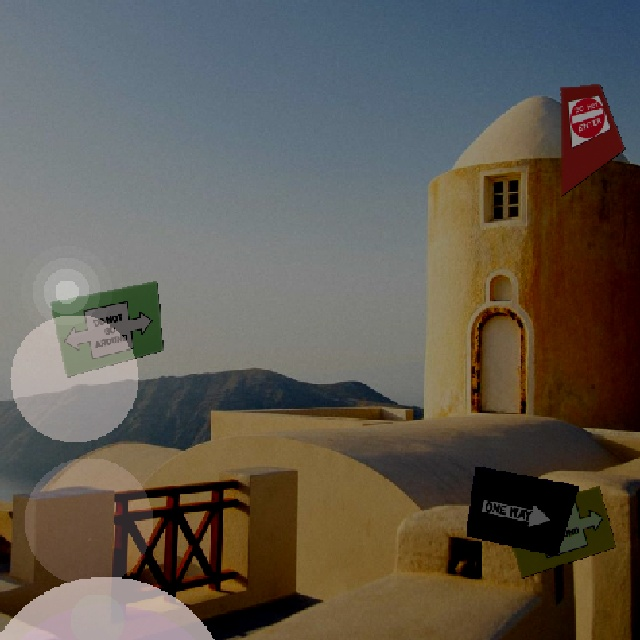DO_NOT_ENTER: (559, 90, 611, 148)
DO_NOT_GO_AROUND: (57, 295, 158, 364)
GO_AROUND: (509, 495, 610, 565)
ONE_WAY_ right: (474, 490, 559, 533)
